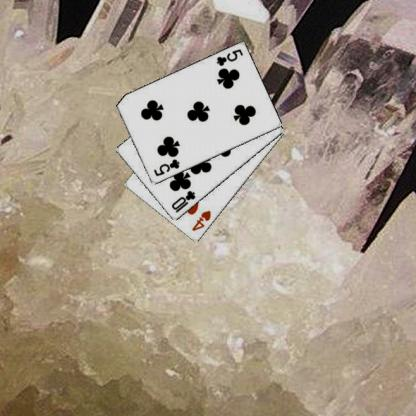10C: (168, 188, 196, 214)
4H: (189, 208, 212, 233)
5C: (151, 156, 181, 178), (214, 47, 244, 68)
